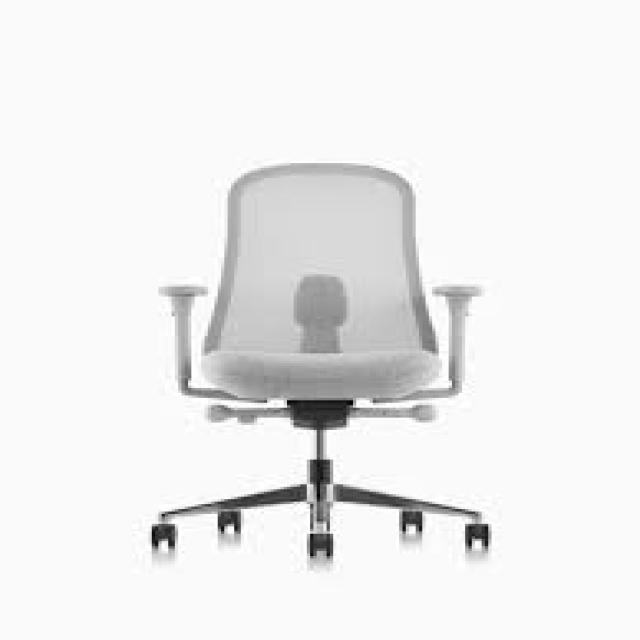chair: (77, 101, 550, 626)
